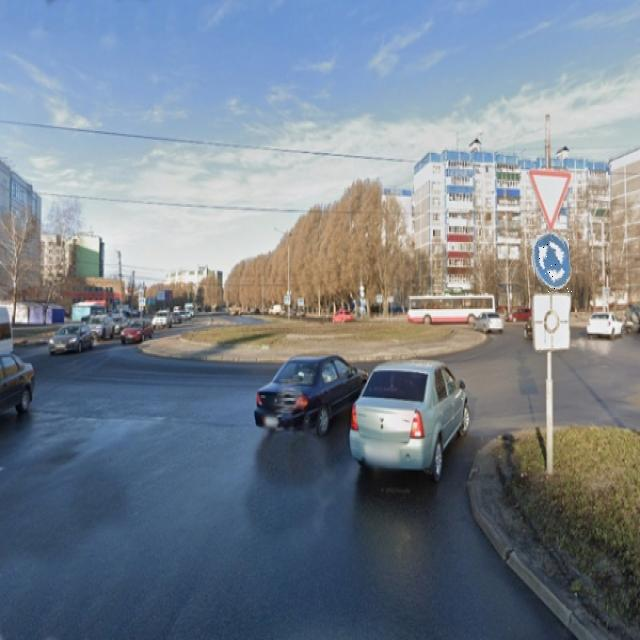roundabout: (531, 233, 572, 293)
